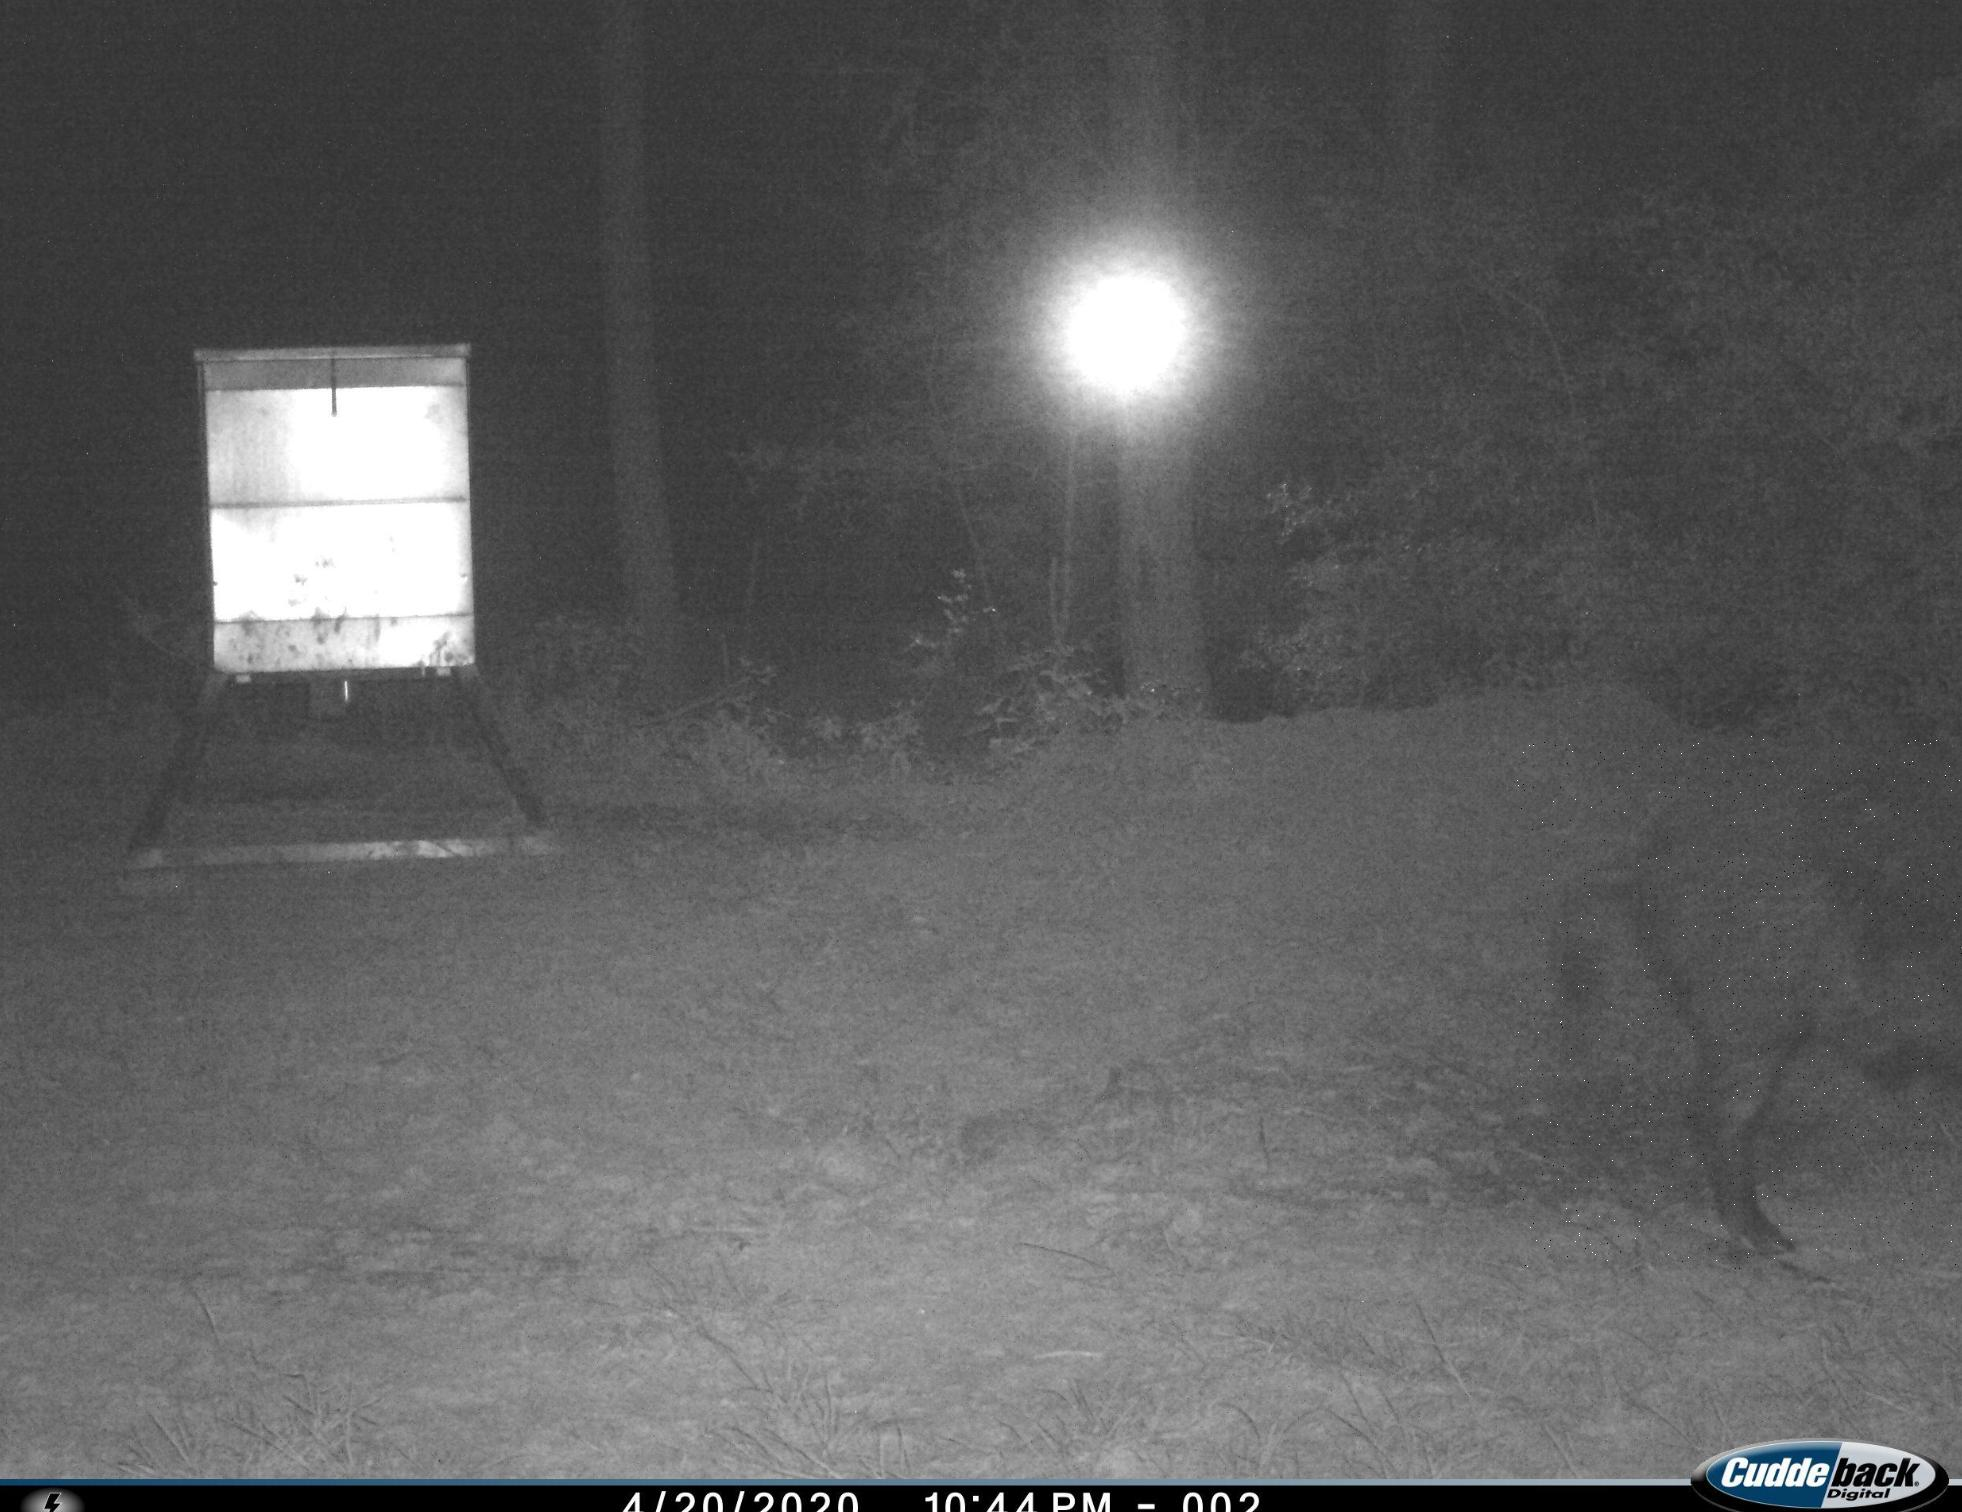Hog: (1516, 735, 1962, 1271)
